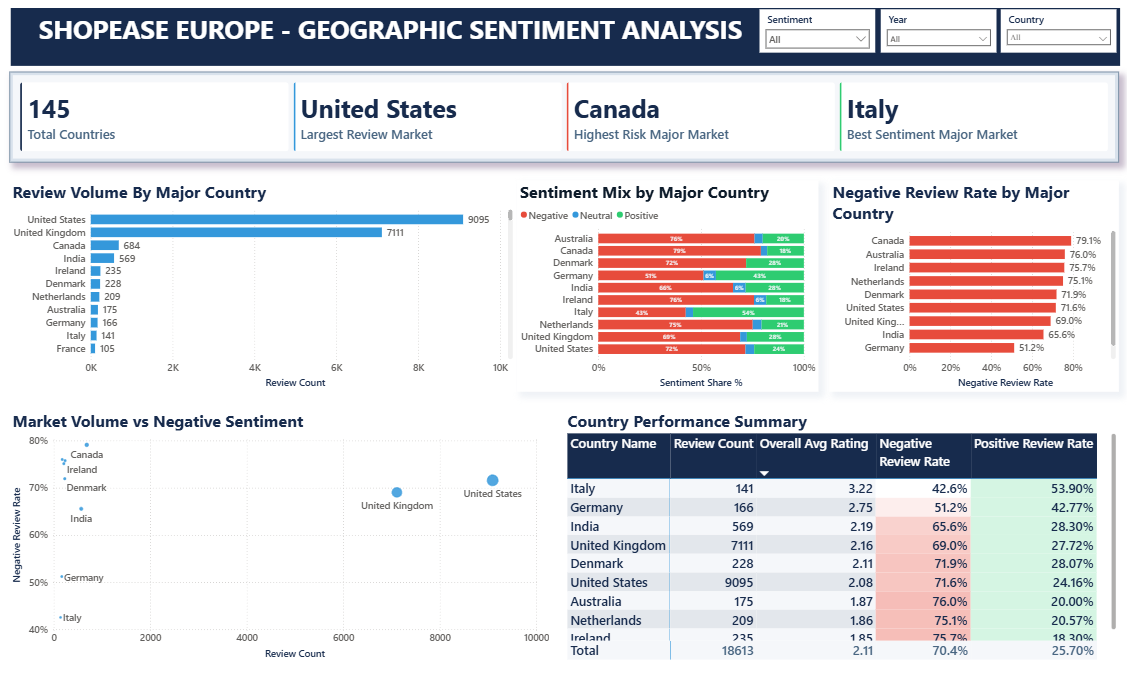

What the dashboard file says about the page in this screenshot:
{"tool":"powerbi","page":{"name":"Geographic Analyis","canvas":[1900,1200],"ordinal":3},"visuals":[{"type":"shape","box":[32,24,1840,96],"z":0},{"type":"textbox","box":[72,24,1248,72],"z":1000},{"type":"slicer","fields":{"Values":["amazon_reviews_cleaned_processe.sentiment"]},"box":[1272,27,192,72],"z":2000},{"type":"slicer","fields":{"Values":["amazon_reviews_cleaned_processe.year"]},"box":[1474,27,192,72],"z":3000},{"type":"cardVisual","fields":{"Data":["amazon_reviews_cleaned_processe.Total Countries","Sheet1.Largest Review Market","Sheet1.Highest Risk Major Market","Sheet1.Best Sentiment Major Market"]},"box":[30,130,1840,150],"z":4000},{"type":"barChart","title":"Sentiment Mix by Major Country","fields":{"Category":["amazon_reviews_cleaned_processe.Country Name"],"Series":["amazon_reviews_cleaned_processe.sentiment"],"Y":["Sheet1.Sentiment Share %"]},"box":[870,310,500,350],"z":5000},{"type":"slicer","fields":{"Values":["amazon_reviews_cleaned_processe.country"]},"box":[1674,27,192,72],"z":6000},{"type":"clusteredBarChart","title":"Negative Review Rate by Major Country","fields":{"Category":["amazon_reviews_cleaned_processe.Country Name"],"Y":["amazon_reviews_cleaned_processe.Negative Review Rate"]},"box":[1390,312,480,350],"z":7000},{"type":"scatterChart","title":"Market Volume vs Negative Sentiment","fields":{"Category":["amazon_reviews_cleaned_processe.Country Name"],"Size":["CountNonNull(amazon_reviews_cleaned_processe.review_id)"],"X":["CountNonNull(amazon_reviews_cleaned_processe.review_id)"],"Y":["amazon_reviews_cleaned_processe.Negative Review Rate"]},"box":[30,690,900,420],"z":8000},{"type":"pivotTable","title":"Country Performance Summary","fields":{"Rows":["amazon_reviews_cleaned_processe.Country Name"],"Values":["CountNonNull(amazon_reviews_cleaned_processe.review_id)","amazon_reviews_cleaned_processe.Overall Avg Rating","amazon_reviews_cleaned_processe.Negative Review Rate","amazon_reviews_cleaned_processe.Positive Review Rate"]},"box":[950,690,920,420],"z":9000},{"type":"clusteredBarChart","title":"Review Volume By Major Country","fields":{"Category":["amazon_reviews_cleaned_processe.Country Name"],"Y":["CountNonNull(amazon_reviews_cleaned_processe.review_id)"]},"box":[30,310,840,350],"z":10000}]}

Visuals, with their boxes on the page's 1900x1200 design canvas (x1, y1, x2, y2). These are canvas units, not pixel positions in the 1127x690 screenshot, which may show the page scaled, cropped or inside an application window:
shape: detection(32, 24, 1872, 120)
textbox: detection(72, 24, 1320, 96)
slicer - amazon_reviews_cleaned_processe.sentiment: detection(1272, 27, 1464, 99)
slicer - amazon_reviews_cleaned_processe.year: detection(1474, 27, 1666, 99)
cardVisual - amazon_reviews_cleaned_processe.Total Countries x Sheet1.Largest Review Market: detection(30, 130, 1870, 280)
"Sentiment Mix by Major Country" barChart: detection(870, 310, 1370, 660)
slicer - amazon_reviews_cleaned_processe.country: detection(1674, 27, 1866, 99)
"Negative Review Rate by Major Country" clusteredBarChart: detection(1390, 312, 1870, 662)
"Market Volume vs Negative Sentiment" scatterChart: detection(30, 690, 930, 1110)
"Country Performance Summary" pivotTable: detection(950, 690, 1870, 1110)
"Review Volume By Major Country" clusteredBarChart: detection(30, 310, 870, 660)
